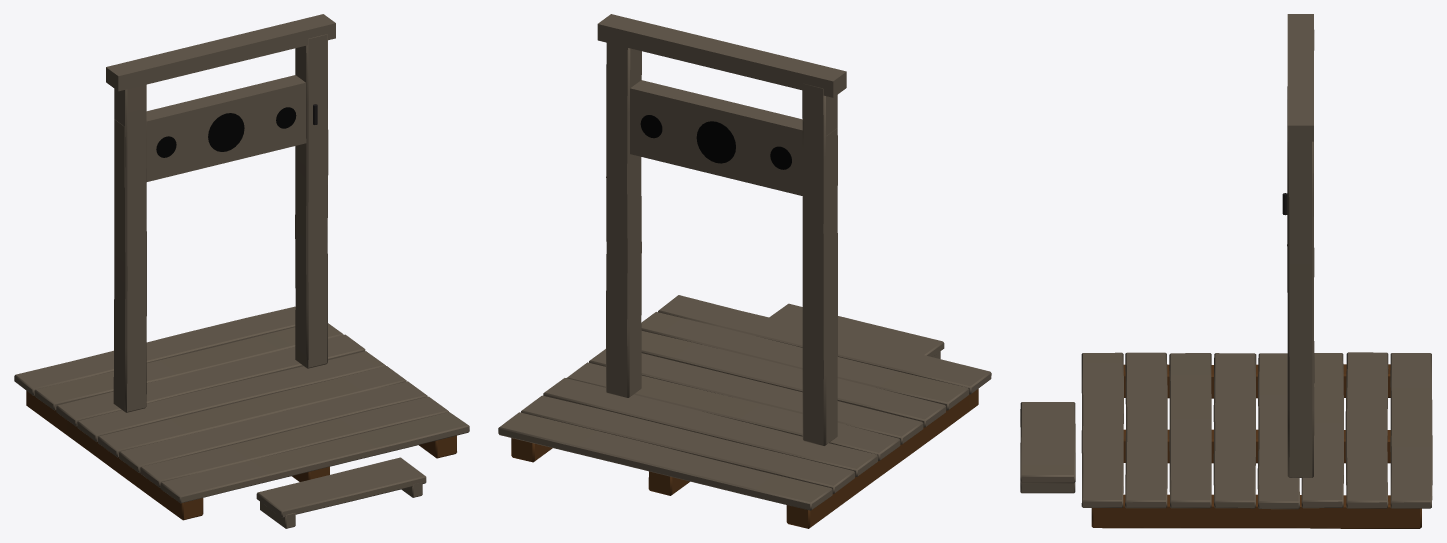
The model's file is pranger.glb.
3 renders of one model, left to right at view 1: azimuth 30°, elevation 25°; view 2: azimuth 150°, elevation 25°; view 3: azimuth 270°, elevation 25°, orthographic. The views are drawn at different scales.
Parts seen in each view (by area): view 1: pranger; view 2: pranger; view 3: pranger.
Part boxes in pixels (x1,y1,x2,y2): pranger: [14, 14, 469, 528]; pranger: [498, 14, 991, 528]; pranger: [1020, 14, 1432, 528].
Bounding box in the file's own units: 1.6 × 1.95 × 1.87.
